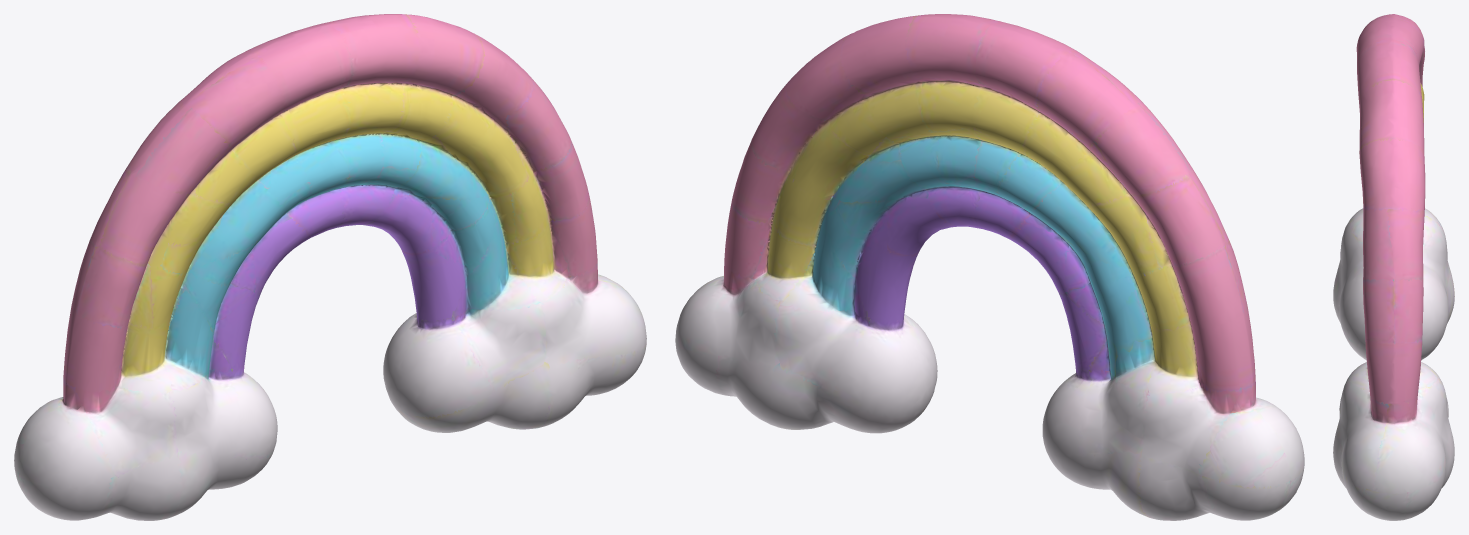
3 renders of one model, left to right at view 1: azimuth 30°, elevation 25°; view 2: azimuth 150°, elevation 25°; view 3: azimuth 270°, elevation 25°, orthographic. The views are drawn at different scales.
Size of the model in its own units: 1.9 by 1.29 by 0.3792.
Materials: 1 (1 with a texture image).
